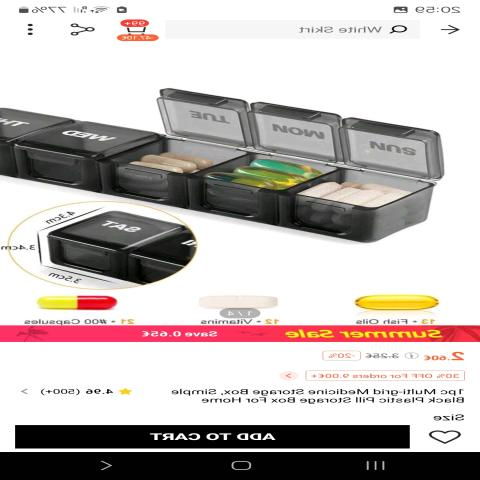Pill-box: (0, 63, 460, 292)
